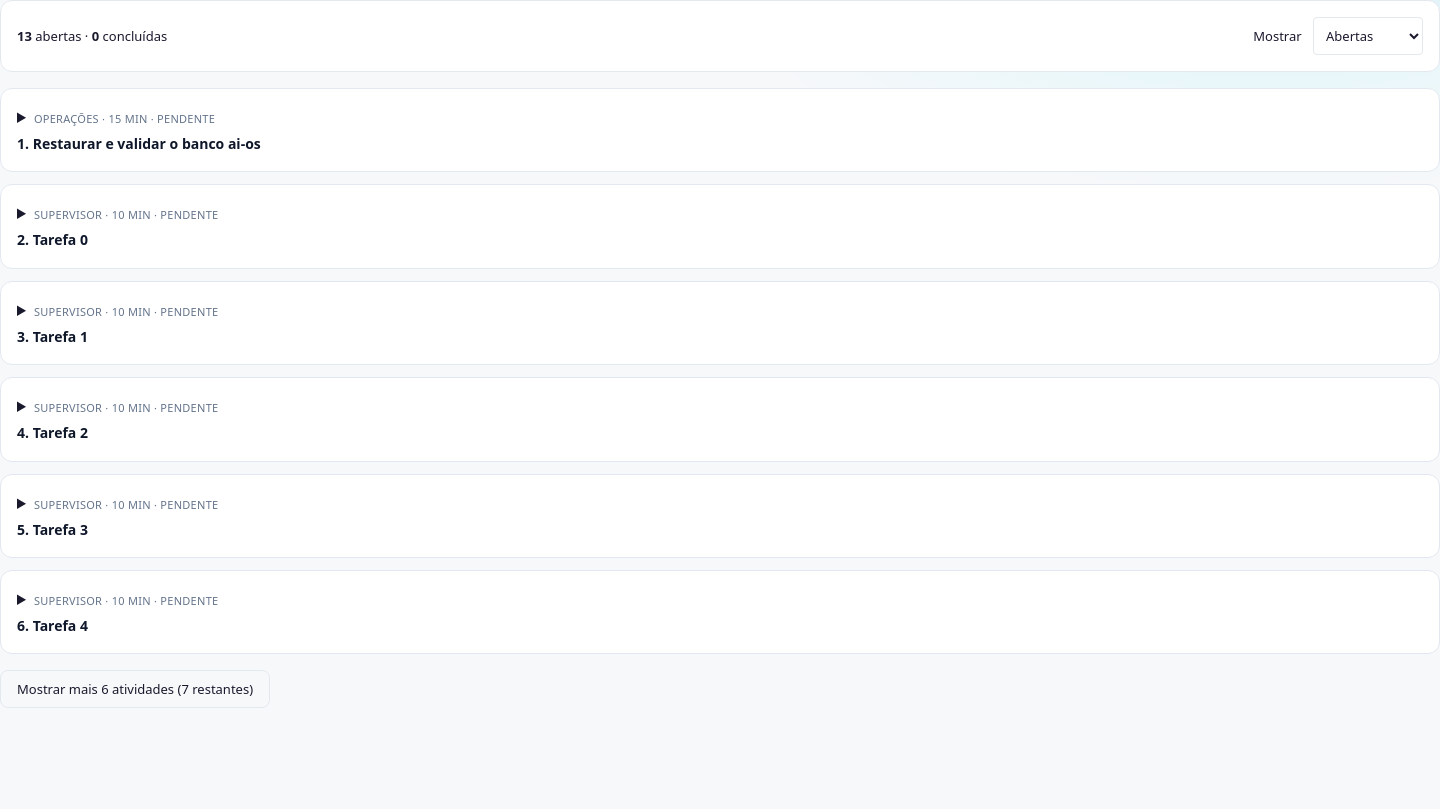
Test case: Navegação unificada › apresenta seis atividades e permite expandir a fila
Click the button "Mostrar mais 6 atividades (7 restantes)": (135,689) x1=0 y1=670 x2=270 y2=708
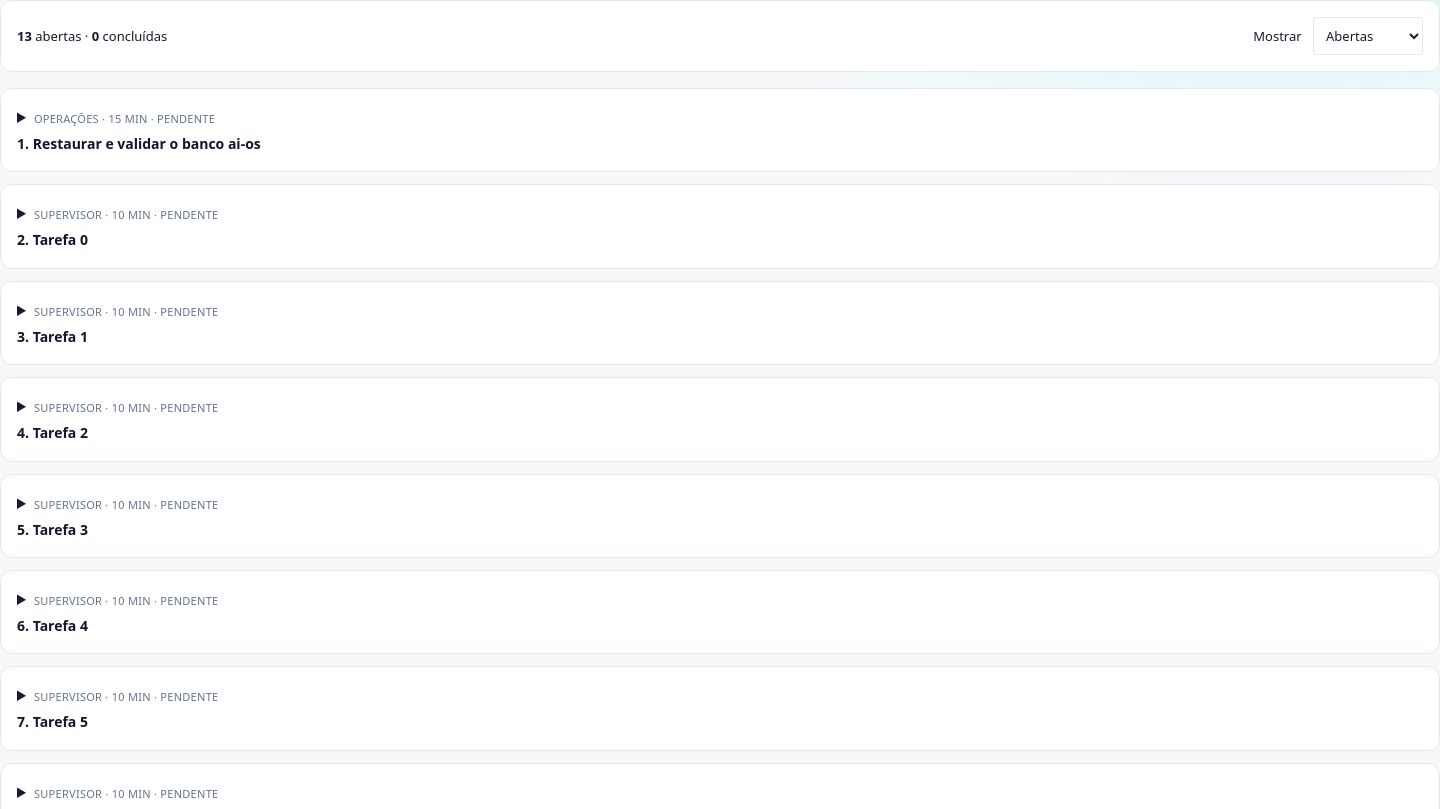
Select "Concluídas" in the dropdown named "Filtrar atividades": (1368,36) x1=1313 y1=17 x2=1423 y2=55
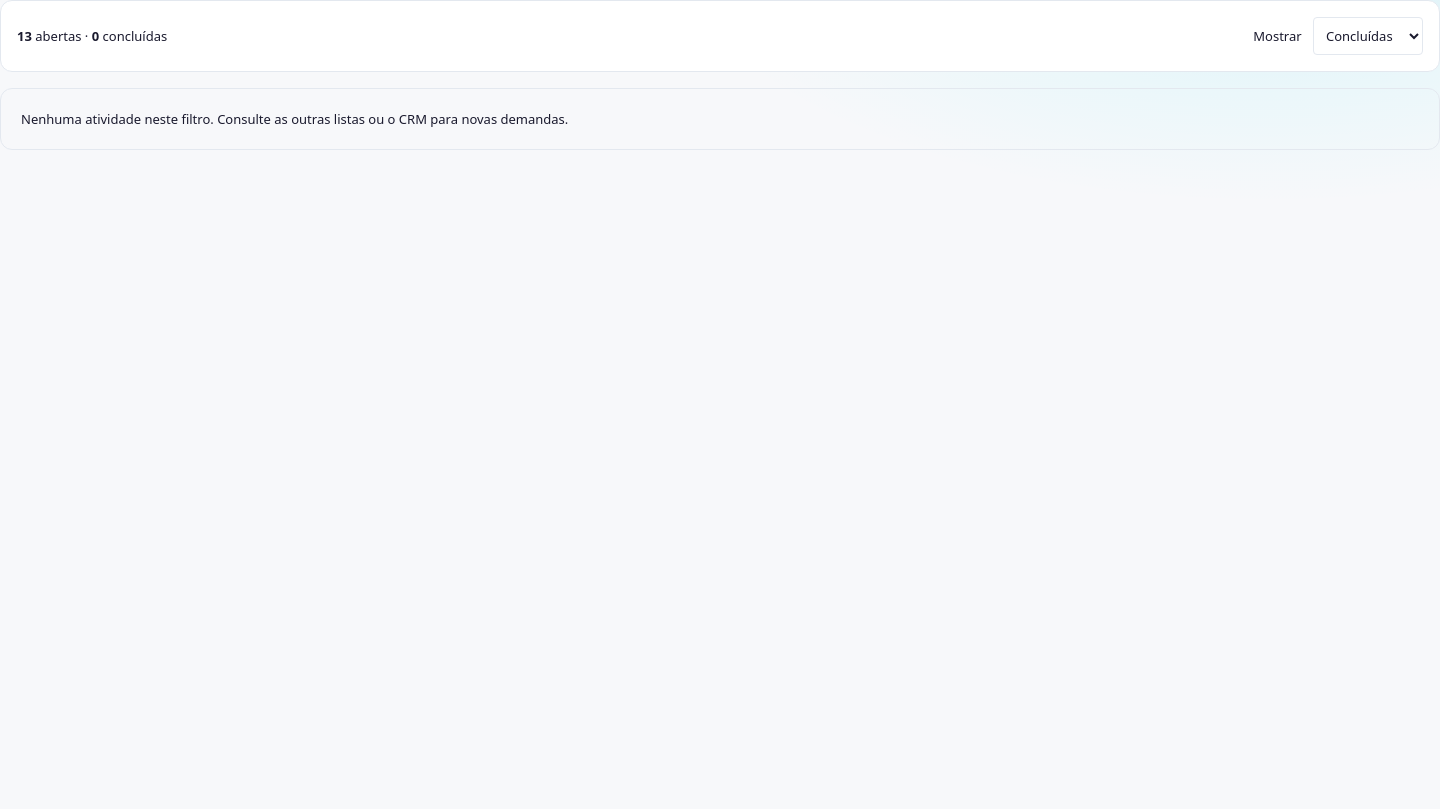
Result: the text "Nenhuma atividade neste filtro" is shown at x1=21 y1=110 x2=568 y2=128
